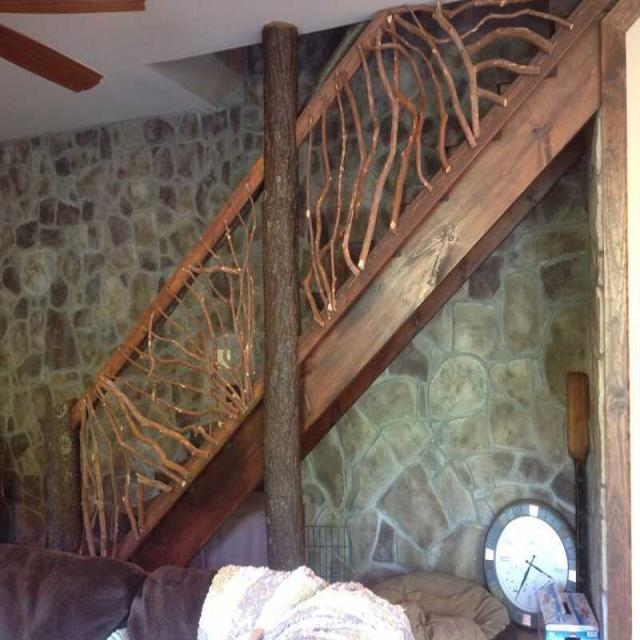Woods: (295, 0, 622, 454), (41, 160, 266, 573), (260, 22, 304, 570)
